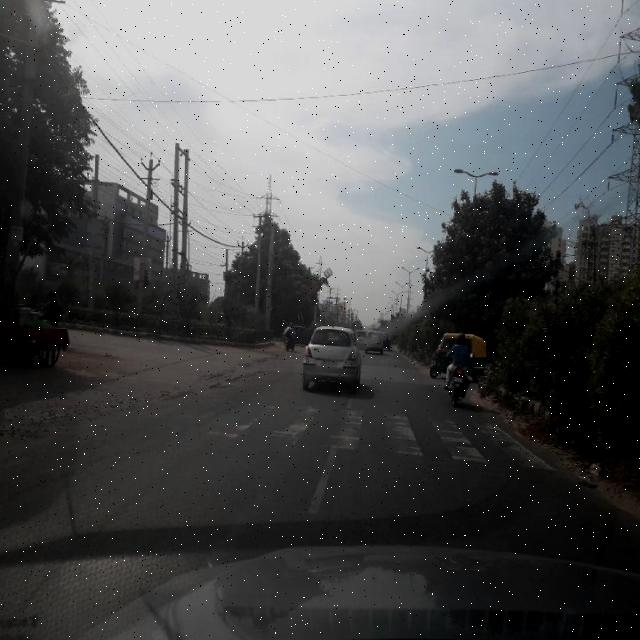D20: (5, 454, 619, 552)
D43: (104, 390, 524, 460)
